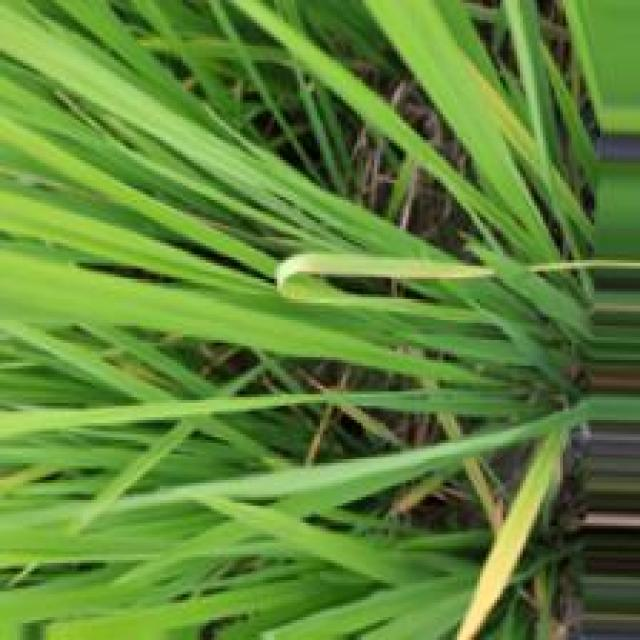HealthyLeaf: (0, 249, 491, 389)
